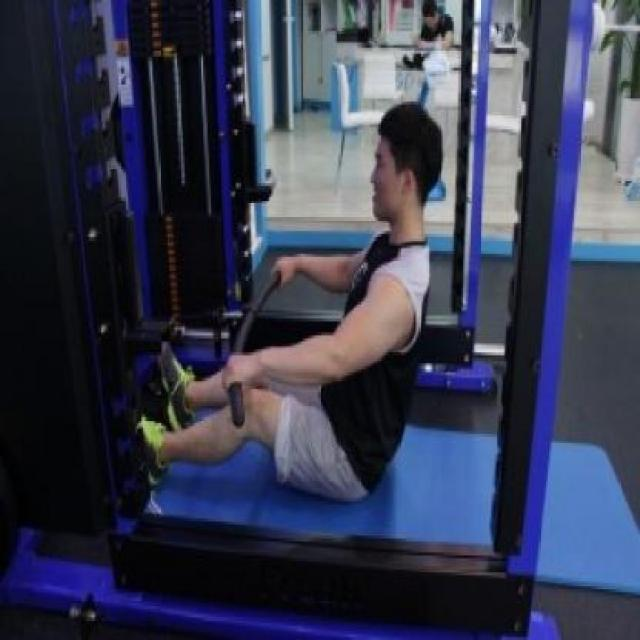Seated Cable Rows: (0, 0, 478, 634)
